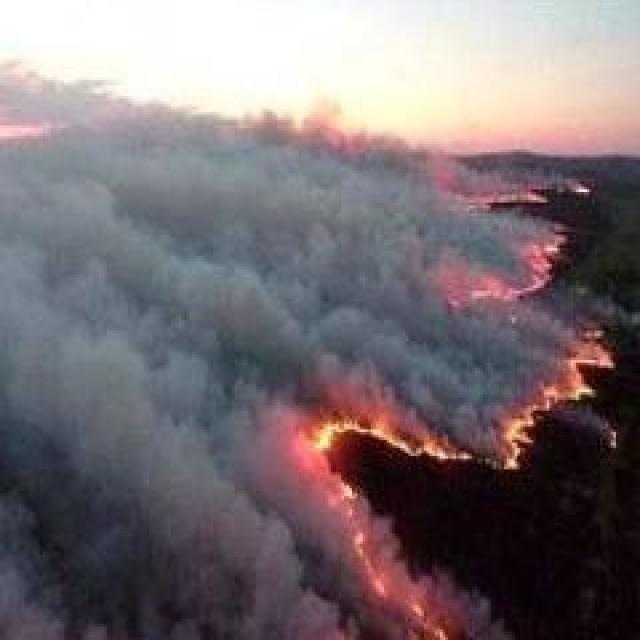Fire: (310, 419, 456, 620), (503, 314, 620, 465), (475, 226, 583, 300)
Smoke: (11, 70, 467, 634)
